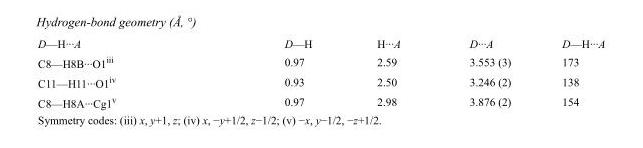table: (37, 36, 604, 109)
table column: (37, 36, 199, 109), (199, 36, 343, 109), (434, 36, 535, 109), (343, 36, 434, 109), (535, 36, 604, 109)
table row: (37, 51, 604, 71), (37, 71, 604, 91), (37, 91, 604, 109), (37, 36, 604, 51)
